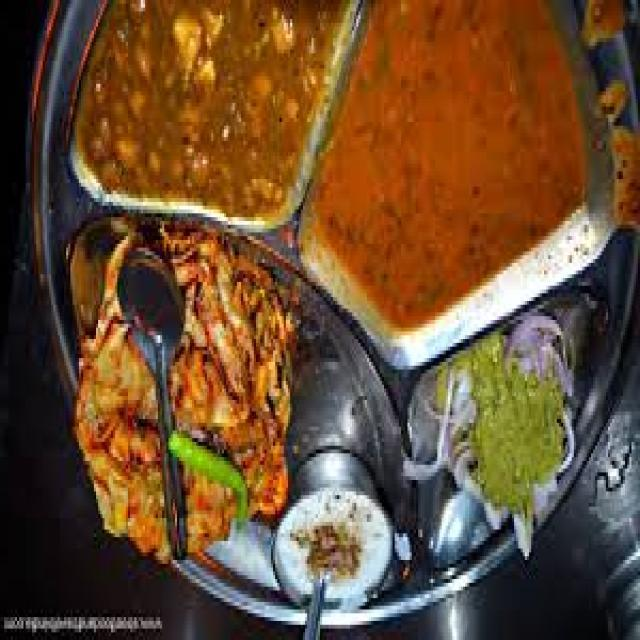rice: (281, 469, 393, 612)
